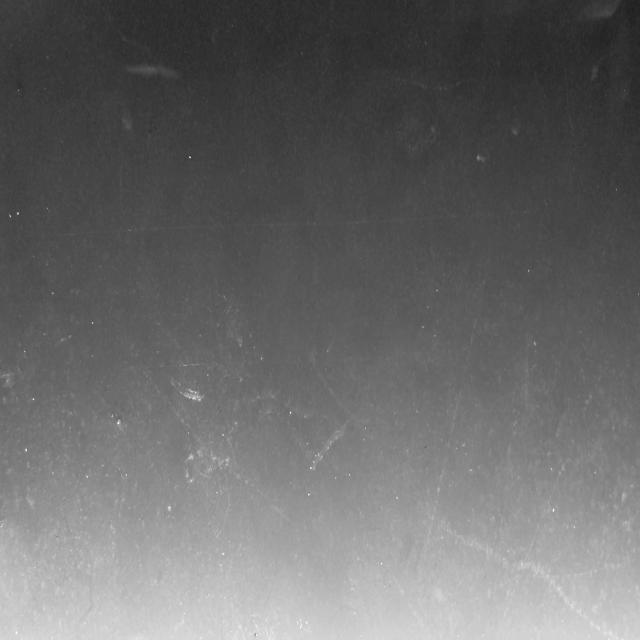beta: (444, 514, 614, 638), (422, 256, 488, 548), (498, 438, 578, 620), (227, 466, 297, 531), (143, 379, 195, 440), (372, 66, 480, 95), (307, 353, 354, 419), (514, 561, 624, 586), (389, 572, 426, 636), (114, 30, 149, 59)
